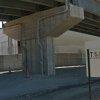Bridge: (5, 7, 94, 54)
